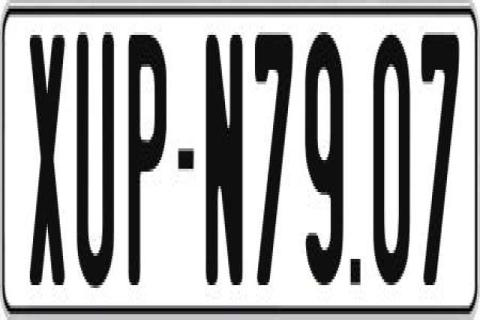0: (303, 29, 346, 285), (255, 32, 298, 285), (374, 26, 412, 294), (419, 35, 456, 285)
N: (205, 32, 243, 282)
P: (129, 35, 171, 303)
U: (75, 29, 113, 294)
X: (28, 29, 64, 291)
